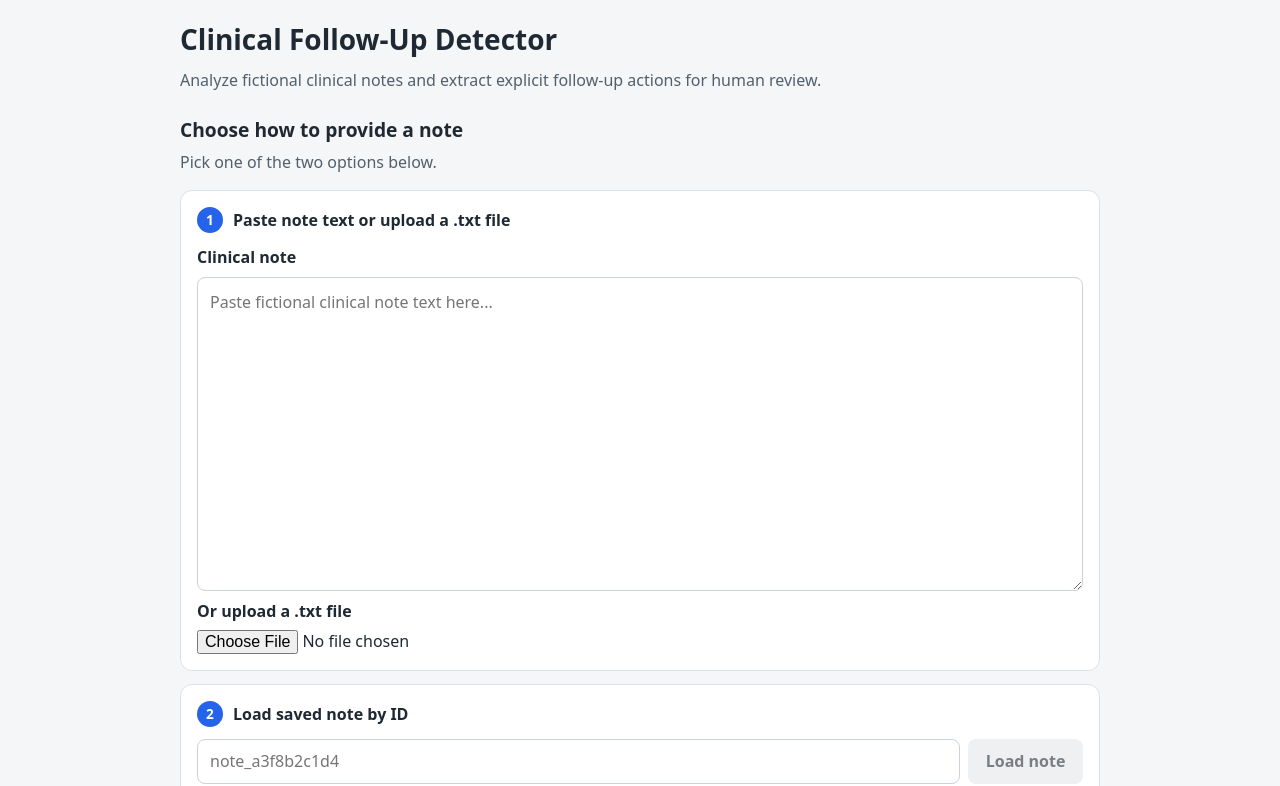
Test: action workflow › reject updates rendered action to rejected
Type "The patient should repeat a CBC within seven days." into the text box labelled "Clinical note" at (640, 434), box [197,277,1083,591]
(page scrolled)
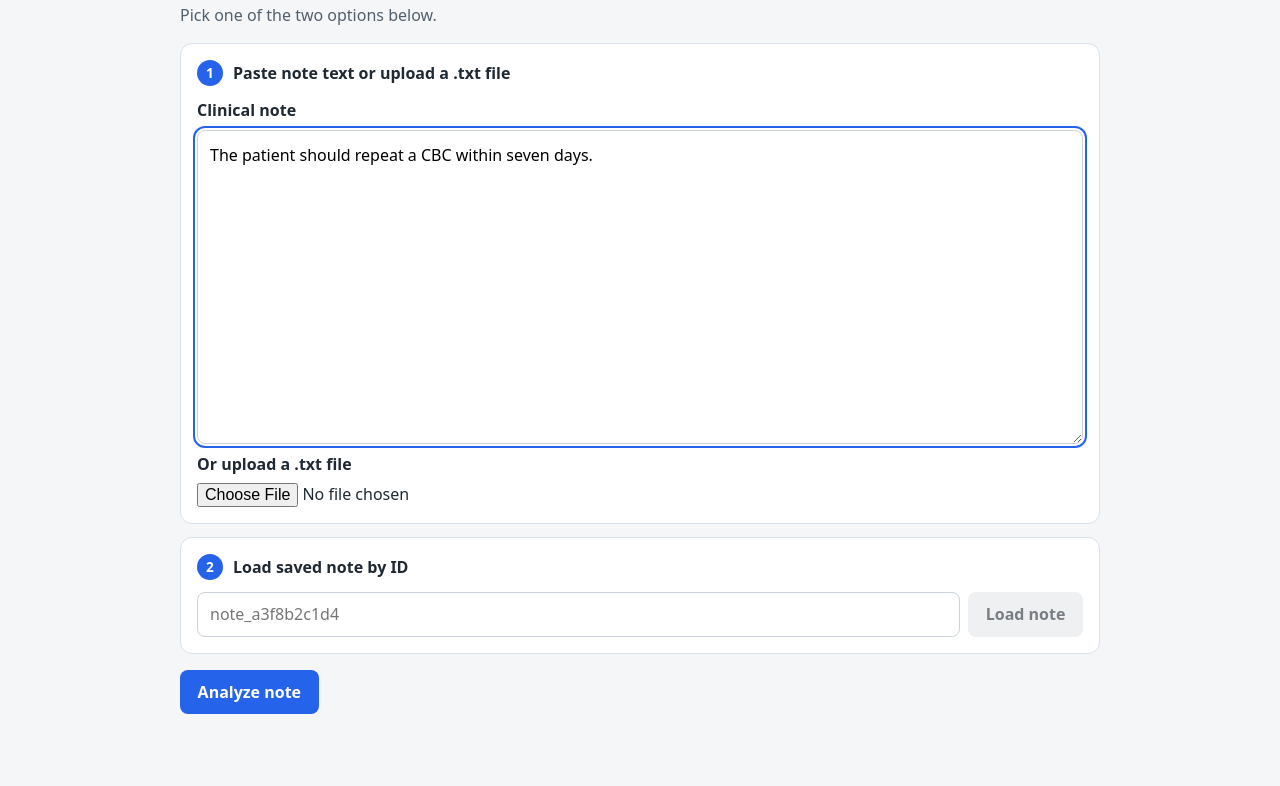
Click the button "Analyze note" at (249, 692), box [180,670,319,714]
(page scrolled)
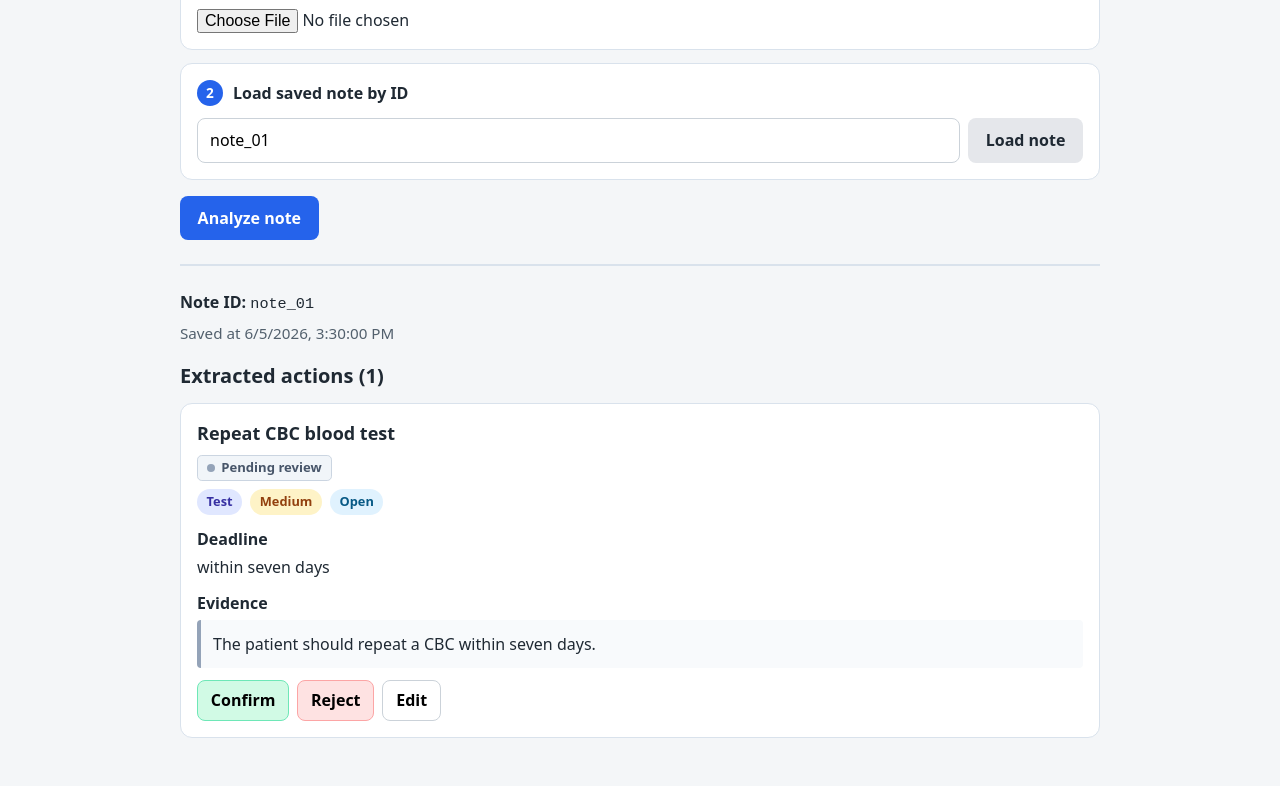
Expected: the heading "Repeat CBC blood test" is shown, [197,420,395,446]
Click the button with aria-label "Reject action: Repeat CBC blood test" at (336, 700), box [297,680,374,720]
(page scrolled)
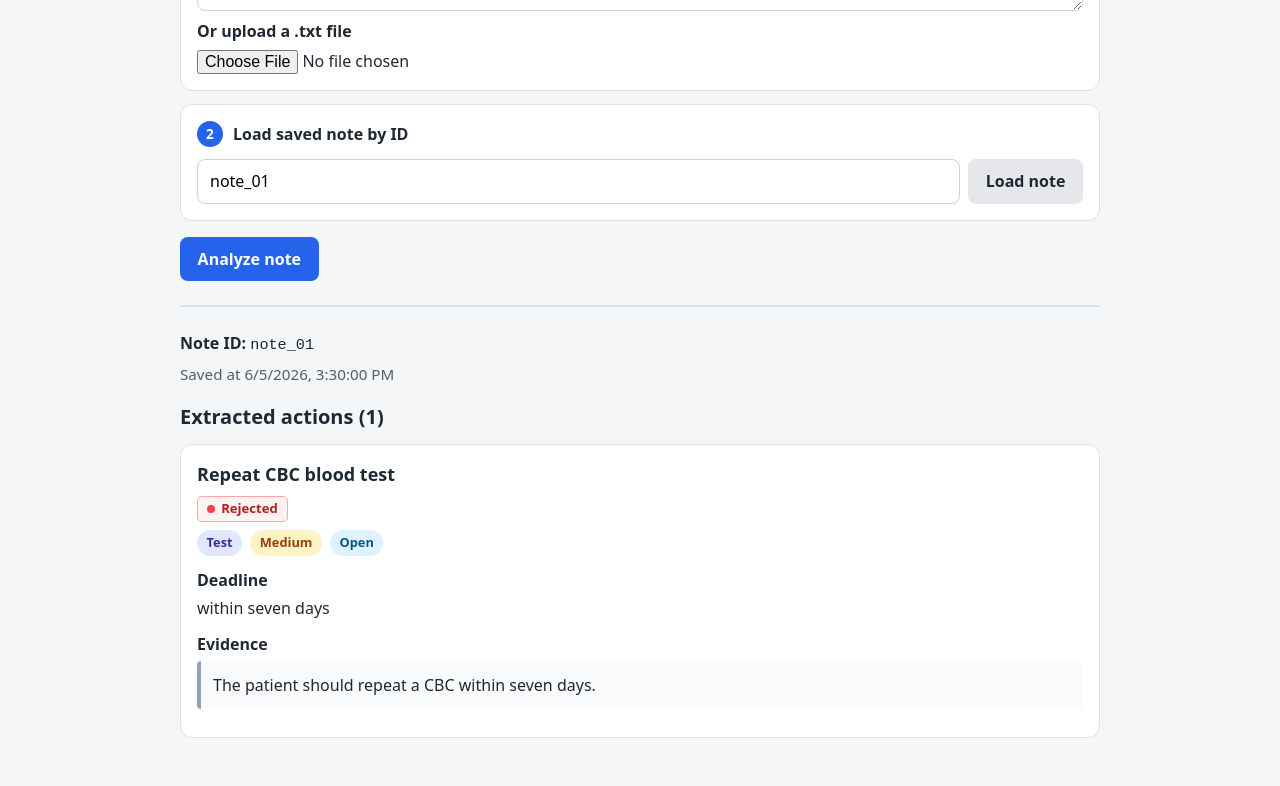
Expected: the text "Rejected" is shown, [197,496,288,522]
